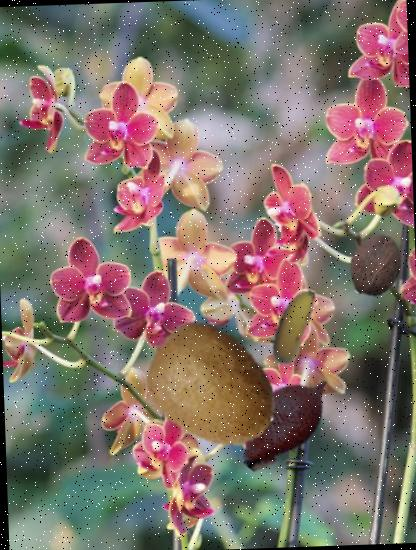Banana: (252, 286, 336, 368)
Cocos: (344, 233, 411, 300)
Kiwi: (140, 316, 282, 458)
Salak: (225, 362, 346, 483)
